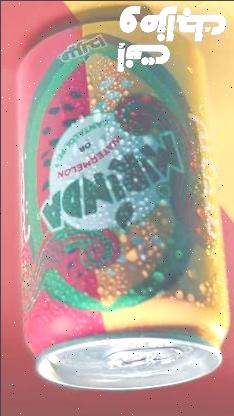Can: (15, 13, 231, 388)
